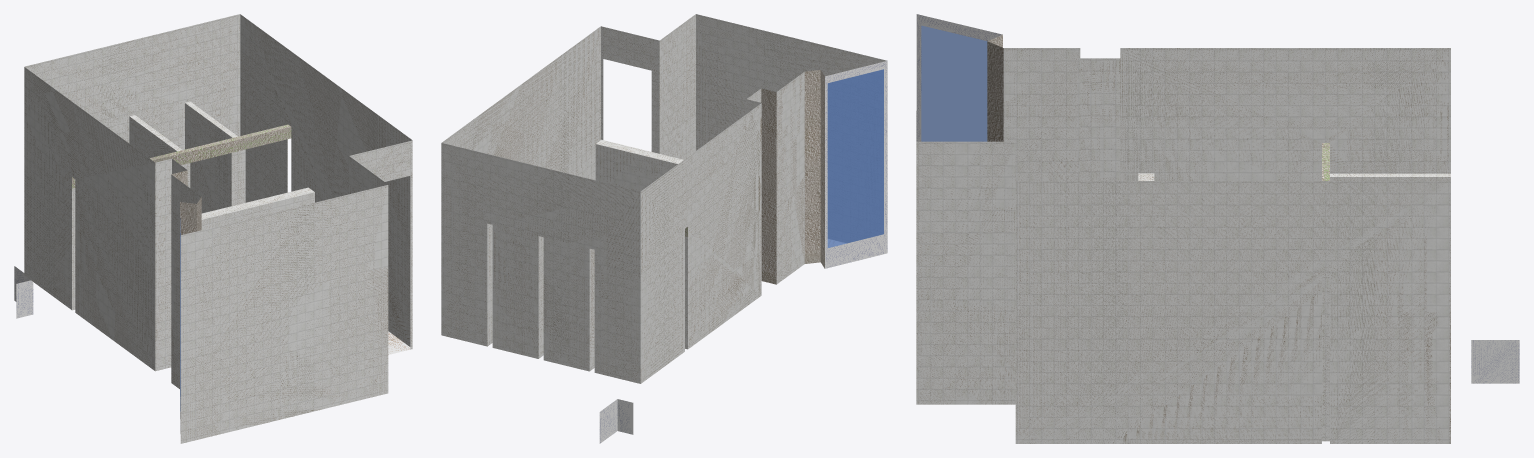
Rendered from COM028.obj.
The picture shows the model from 3 angles, left to right: view 1: azimuth 30°, elevation 25°; view 2: azimuth 150°, elevation 25°; view 3: azimuth 270°, elevation 25°; orthographic projection. The views are drawn at different scales.
Visible parts, largest first — view 1: Mesh1 COM028 Model, Mesh2 COM028 Model; view 2: Mesh1 COM028 Model, Mesh2 COM028 Model; view 3: Mesh1 COM028 Model, Mesh2 COM028 Model.
Part boxes in pixels (<box>): Mesh1 COM028 Model: <box>24,14,412,443</box>; Mesh2 COM028 Model: <box>14,266,33,318</box>; Mesh1 COM028 Model: <box>441,14,887,383</box>; Mesh2 COM028 Model: <box>599,399,633,443</box>; Mesh1 COM028 Model: <box>916,14,1450,443</box>; Mesh2 COM028 Model: <box>1471,340,1519,383</box>.
Bounding box in the file's own units: 4.9 × 4.45 × 7.48.
7 materials, 3 textured.
